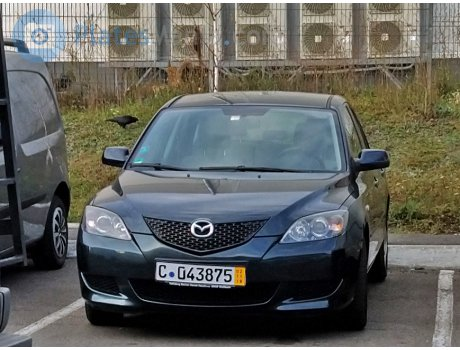License Plates: (158, 260, 237, 281)
